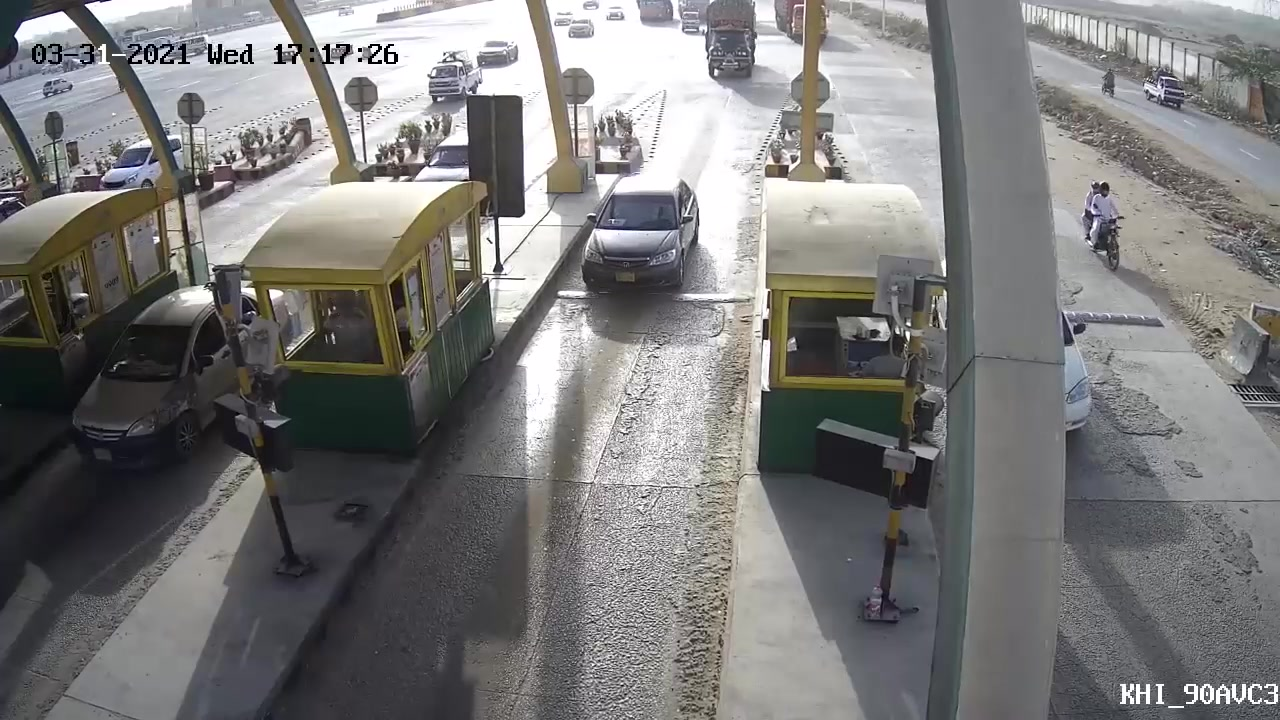F1: (577, 165, 699, 290)
